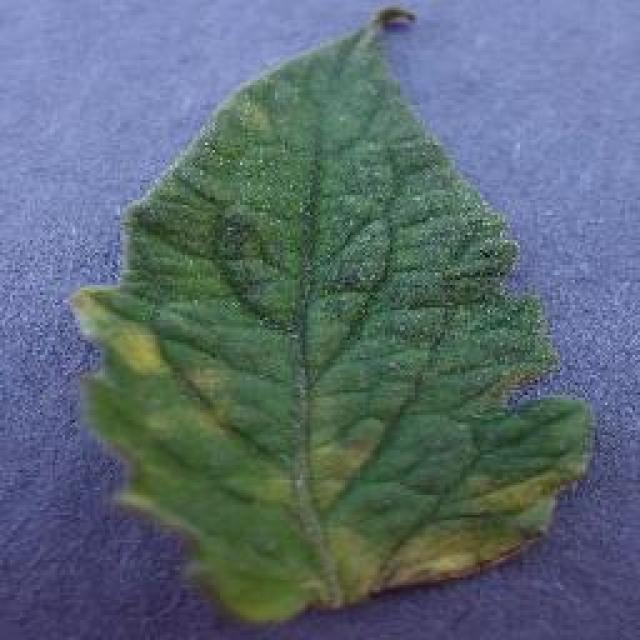Tomato___Leaf_Mold: (72, 8, 592, 620)
